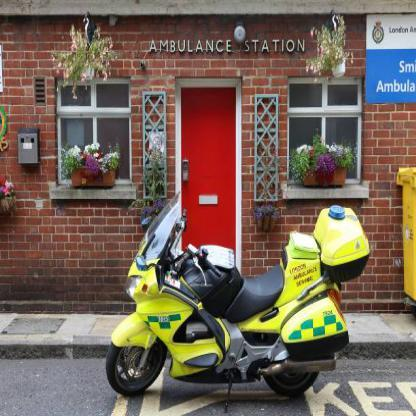Motorcycle: (102, 207, 348, 396)
